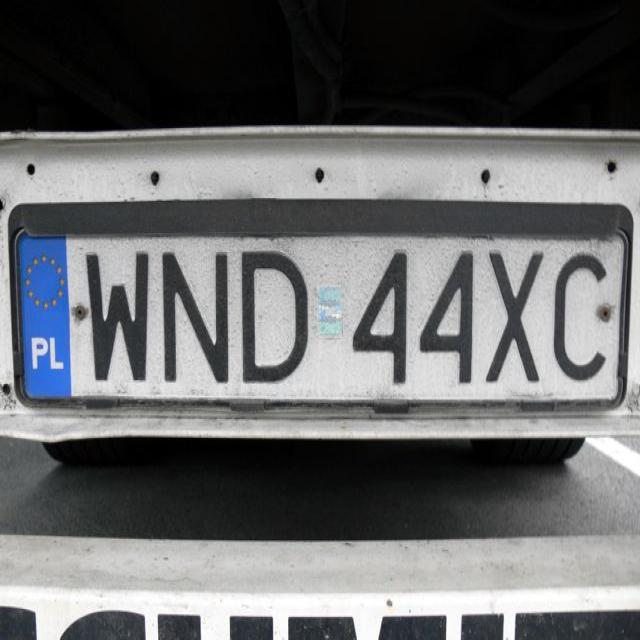pl_license_plate: (17, 230, 623, 402)
